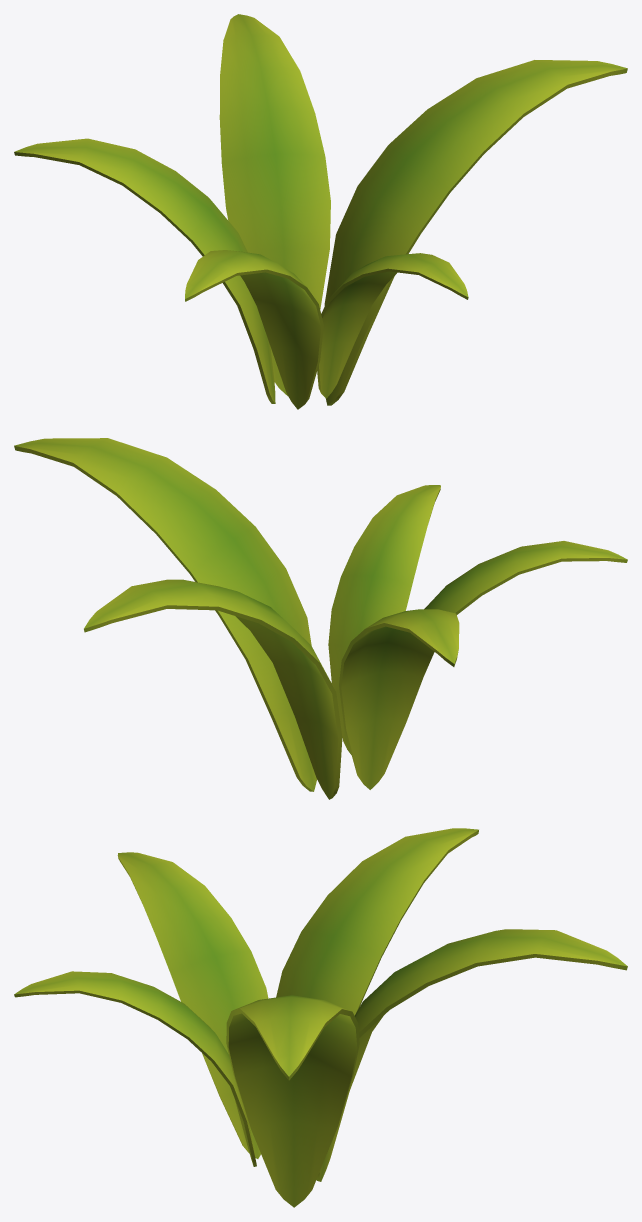
File: SmallGrass_01.fbx
3 renders of one model, top to bottom at view 1: azimuth 30°, elevation 25°; view 2: azimuth 150°, elevation 25°; view 3: azimuth 270°, elevation 25°, orthographic. The views are drawn at different scales.
Parts seen in each view (by area): view 1: SmallGrass_01; view 2: SmallGrass_01; view 3: SmallGrass_01.
Part boxes in pixels (x1,y1,x2,y2): SmallGrass_01: [14, 14, 627, 409]; SmallGrass_01: [14, 438, 627, 799]; SmallGrass_01: [14, 828, 627, 1207].
Size of the model in its own units: 1.45 by 0.7544 by 1.39.
